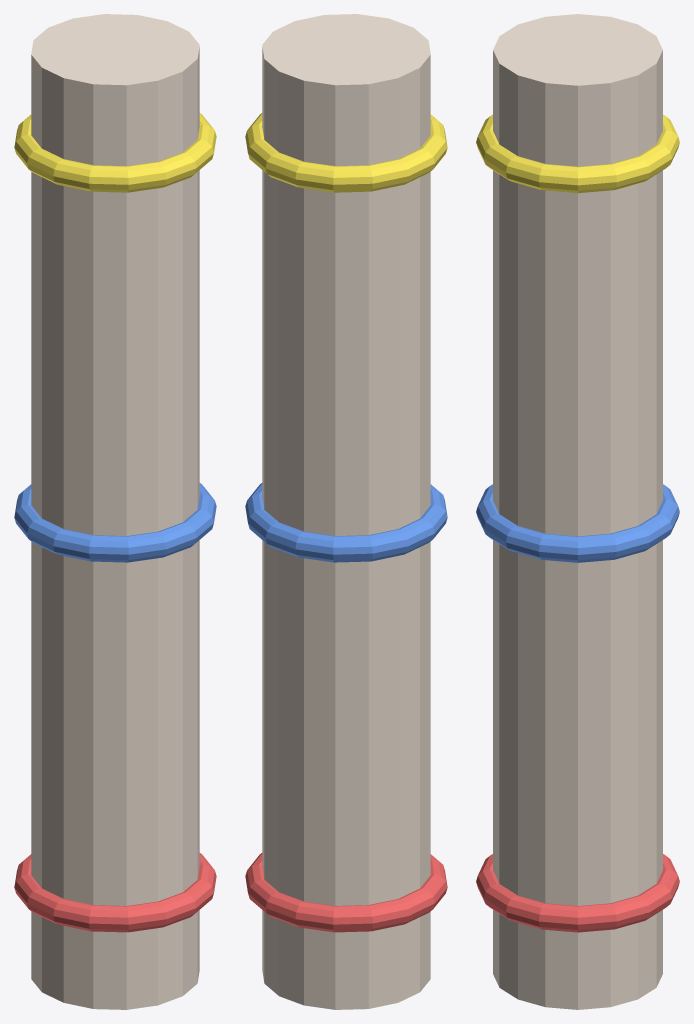
File: pillar_module.glb
The picture shows the model from 3 angles, left to right: view 1: azimuth 30°, elevation 25°; view 2: azimuth 150°, elevation 25°; view 3: azimuth 270°, elevation 25°; orthographic projection.
Parts seen in each view (by area): view 1: Pillar; view 2: Pillar; view 3: Pillar.
Boxes of the visible parts, x1,y1,x2,y2 form: Pillar: [14, 14, 216, 1009]; Pillar: [245, 14, 447, 1009]; Pillar: [476, 14, 679, 1009].
Bounding box in the file's own units: 1.2 × 6 × 1.2.
